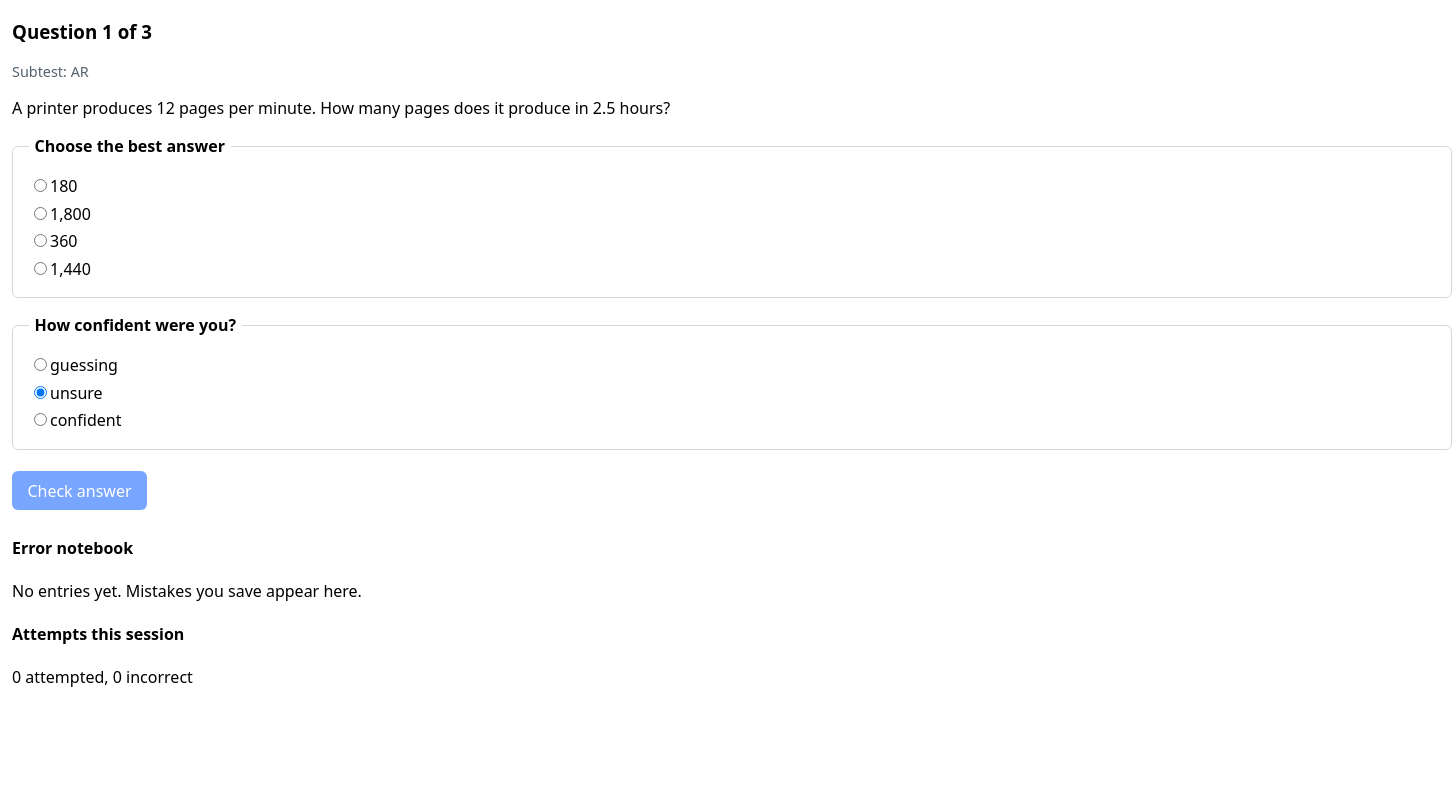
Scenario: practice view › adds a missed question to the error notebook
Click the radio button labelled "180". click: (40, 186)
box: [34,179,47,192]
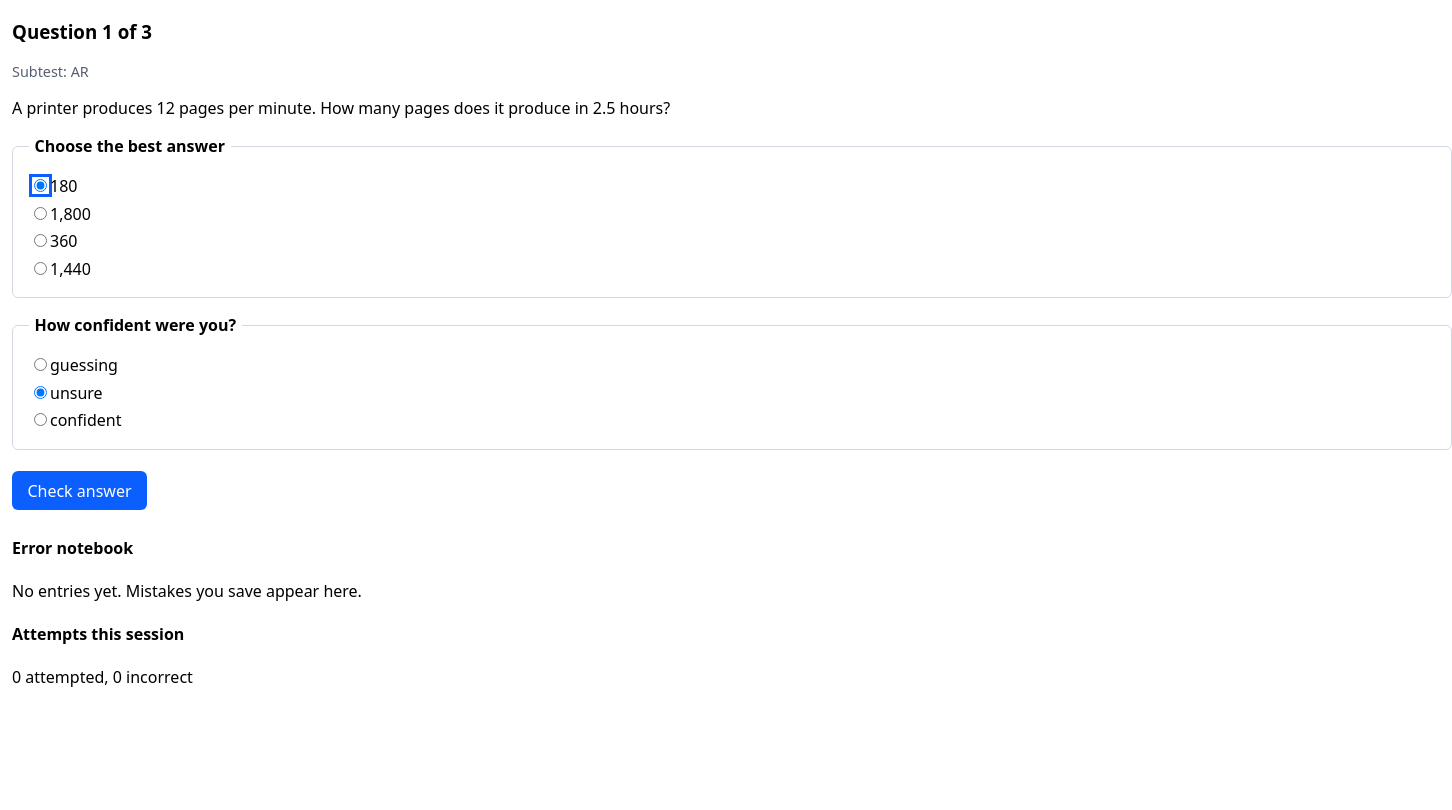
Click the button "Check answer". click: (79, 491)
box: [12,471,147,510]
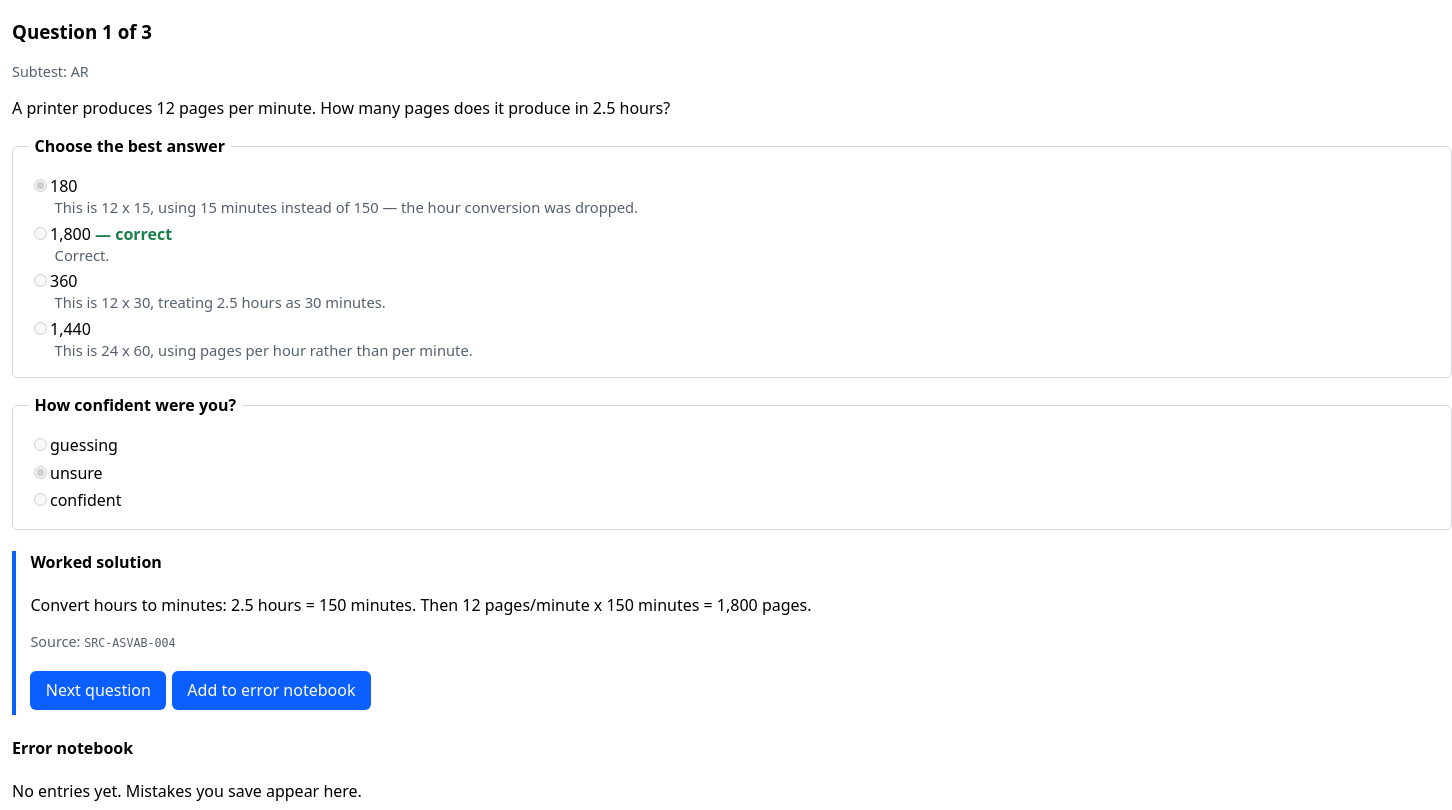
Click the button "Add to error notebook". click: (271, 690)
box: [172,671,371,710]
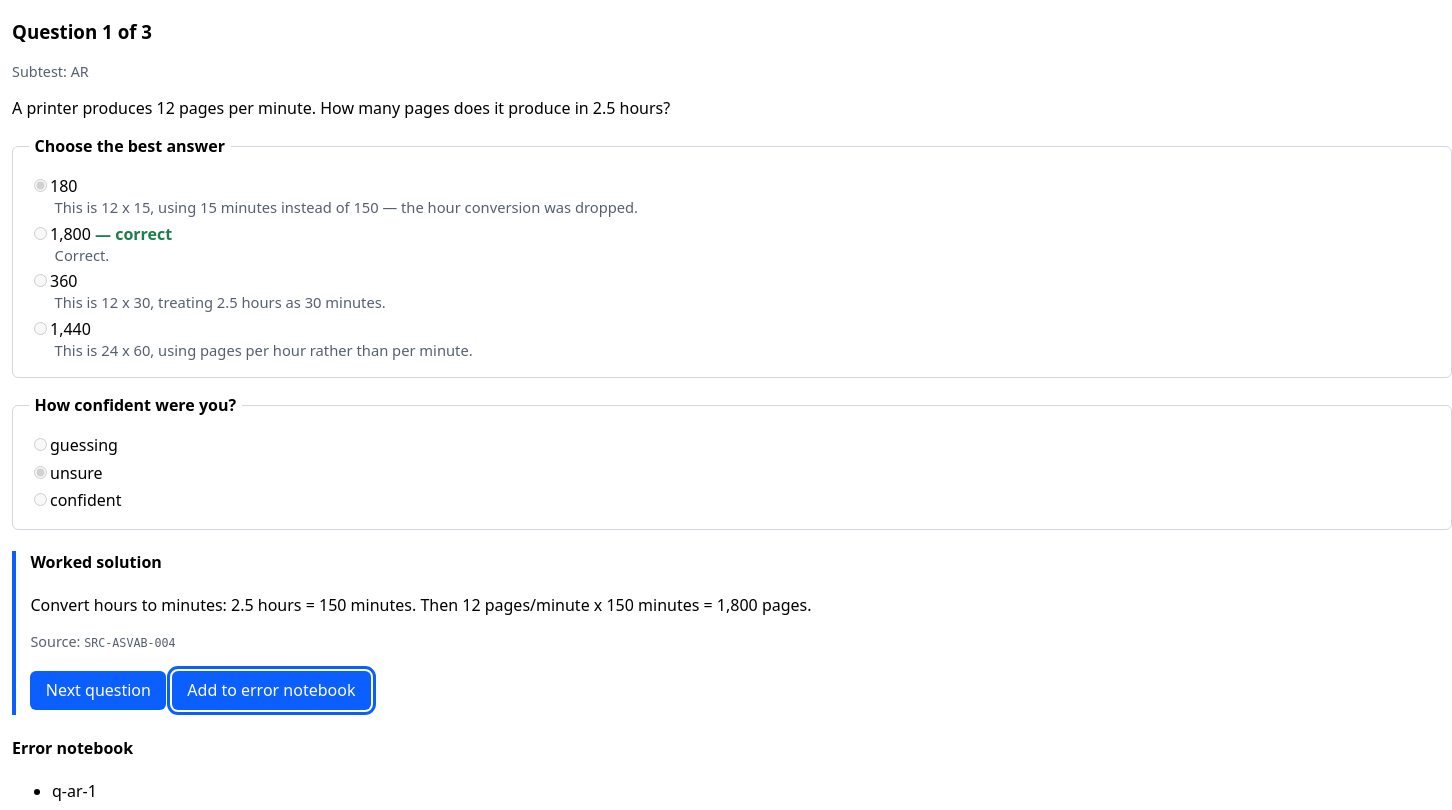
Expected: the list with test id "notebook-list" reads "q-ar-1", [52,780,97,802]
